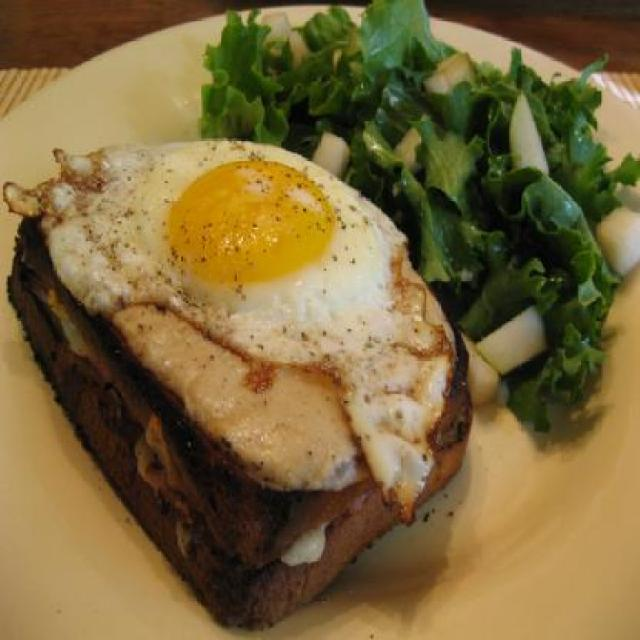Salad: (170, 21, 639, 382)
